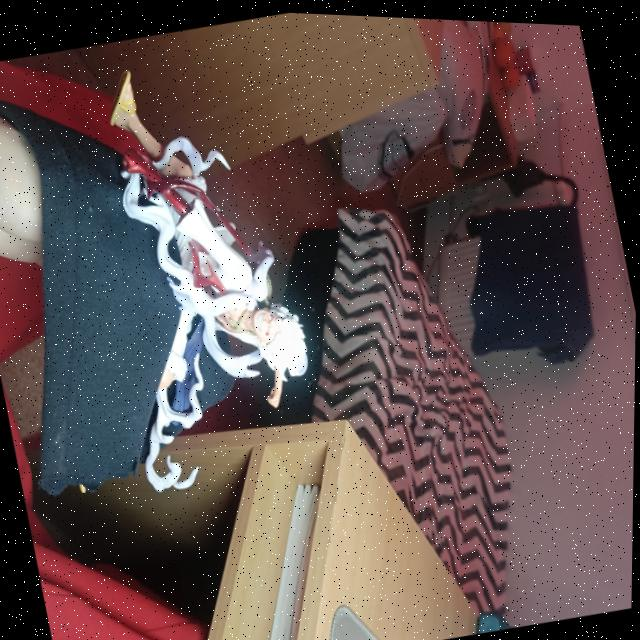luffy: (51, 22, 338, 503)
